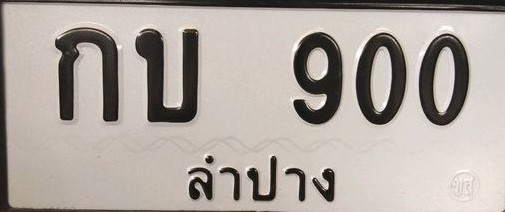txt01: (52, 20, 120, 123)
txt21: (131, 25, 202, 126)
